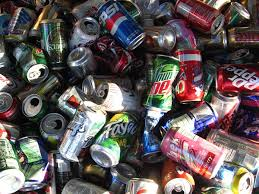can: (51, 96, 105, 168), (159, 124, 227, 178), (89, 1, 151, 55), (94, 105, 134, 171), (177, 48, 203, 111)
